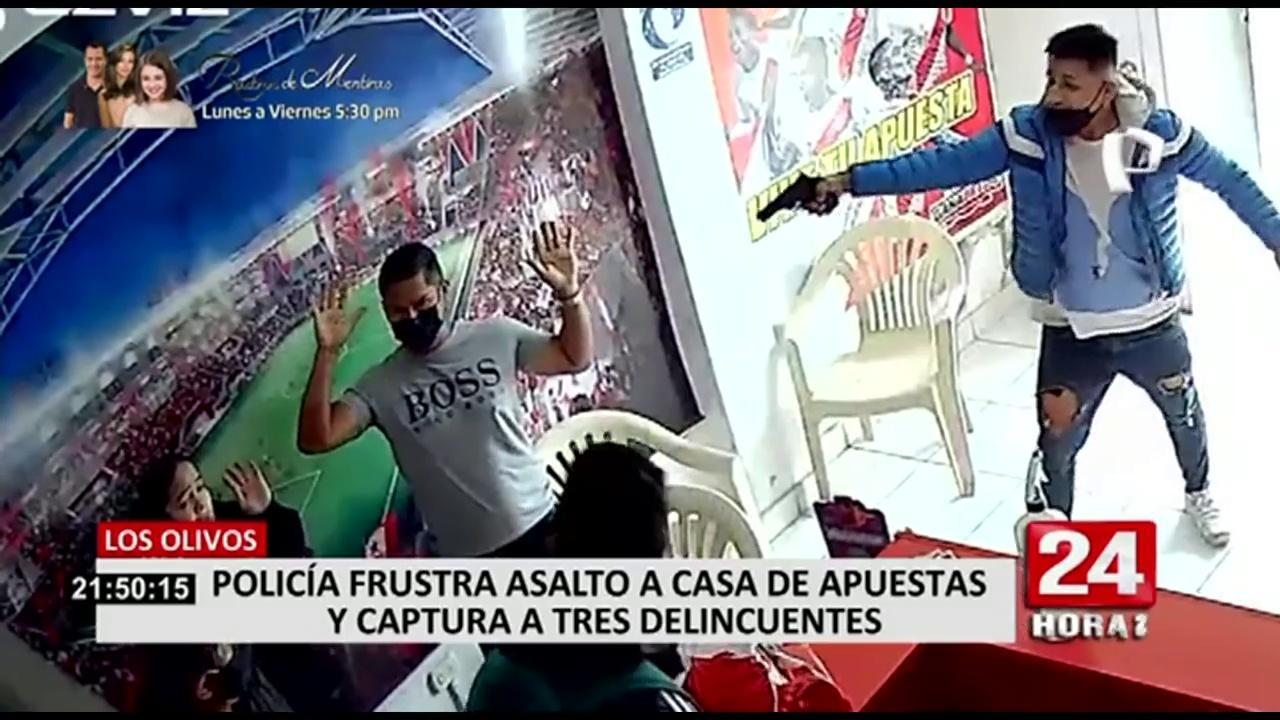Guns perspective: (741, 136, 849, 252)
